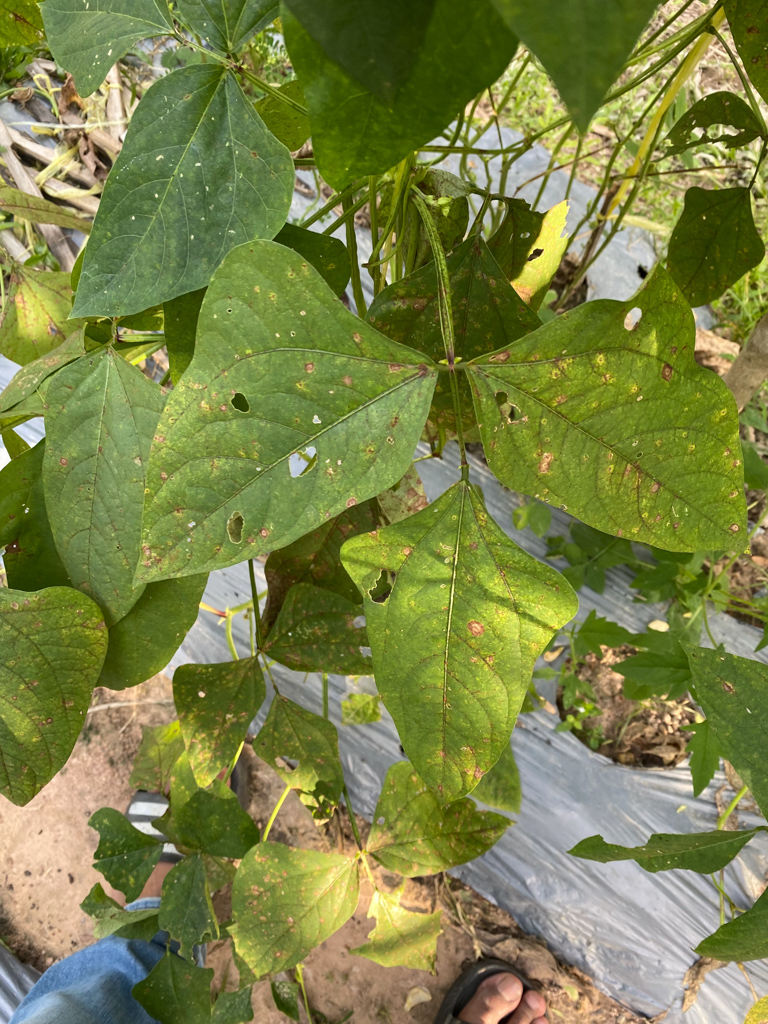Rust: (131, 301, 429, 601), (487, 335, 754, 549), (372, 497, 530, 808), (0, 597, 105, 811), (400, 251, 512, 450), (51, 390, 149, 597), (379, 793, 507, 874), (249, 850, 332, 970), (259, 703, 342, 812), (183, 665, 258, 780), (685, 199, 753, 304), (287, 598, 373, 670)
